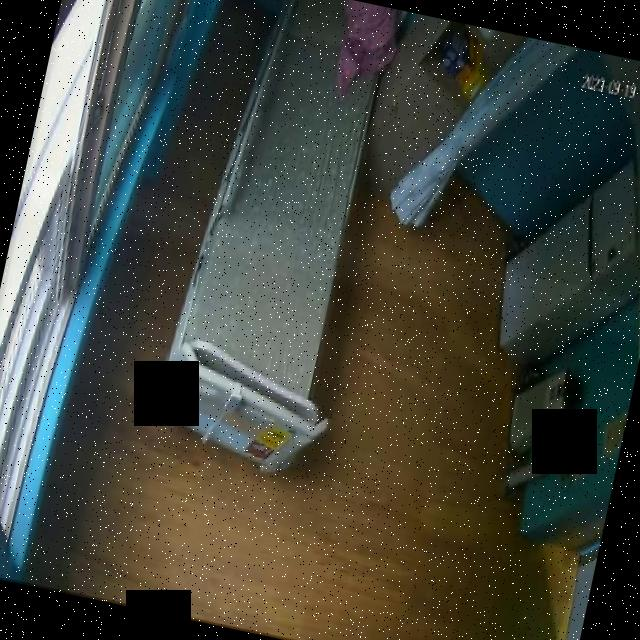bed: (150, 0, 402, 469)
